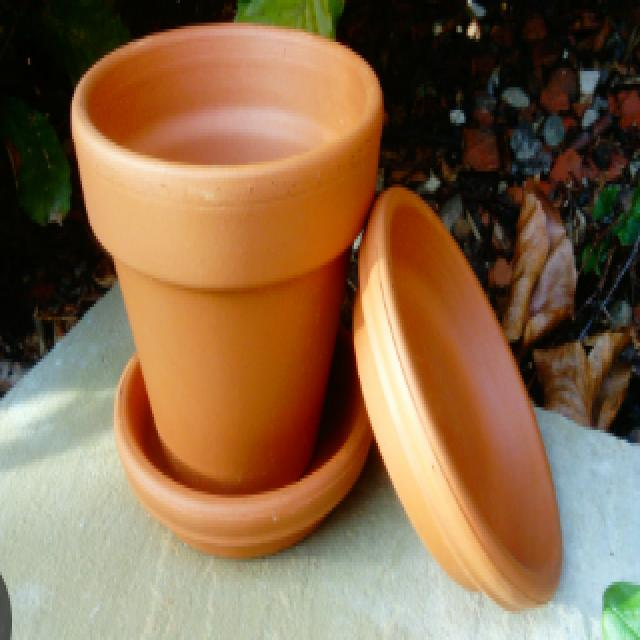Plant Pot: (58, 29, 383, 575), (356, 203, 588, 600)
